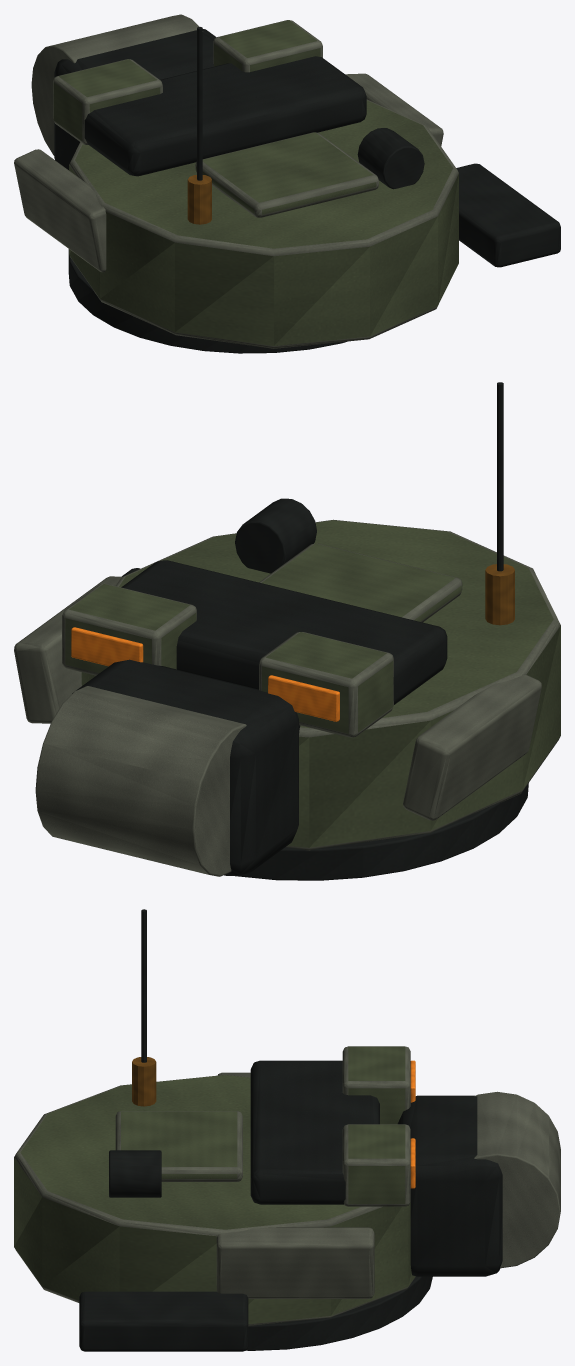
Rendered from ranger-turret.fbx.
3 renders of one model, top to bottom at view 1: azimuth 30°, elevation 25°; view 2: azimuth 150°, elevation 25°; view 3: azimuth 270°, elevation 25°, orthographic. The views are drawn at different scales.
Parts seen in each view (by area): view 1: ranger-turret_Armor, ranger-turret_Steel, ranger-turret_Edge, ranger-turret_Brass; view 2: ranger-turret_Armor, ranger-turret_Steel, ranger-turret_Edge, ranger-turret_Optic, ranger-turret_Brass; view 3: ranger-turret_Armor, ranger-turret_Steel, ranger-turret_Edge, ranger-turret_Brass, ranger-turret_Optic.
Part boxes in pixels (<box>): ranger-turret_Armor: <box>53,20,458,348</box>; ranger-turret_Steel: <box>54,27,560,353</box>; ranger-turret_Edge: <box>14,14,443,272</box>; ranger-turret_Brass: <box>187,175,211,224</box>; ranger-turret_Armor: <box>62,519,560,850</box>; ranger-turret_Steel: <box>72,382,528,880</box>; ranger-turret_Edge: <box>14,576,541,876</box>; ranger-turret_Optic: <box>71,627,339,721</box>; ranger-turret_Brass: <box>485,564,514,625</box>; ranger-turret_Armor: <box>14,1046,415,1326</box>; ranger-turret_Steel: <box>79,909,502,1351</box>; ranger-turret_Edge: <box>216,1072,560,1298</box>; ranger-turret_Brass: <box>132,1057,156,1106</box>; ranger-turret_Optic: <box>410,1060,415,1188</box>.
Bounding box in the file's own units: 212 × 158 × 249.
5 materials, 5 textured.
